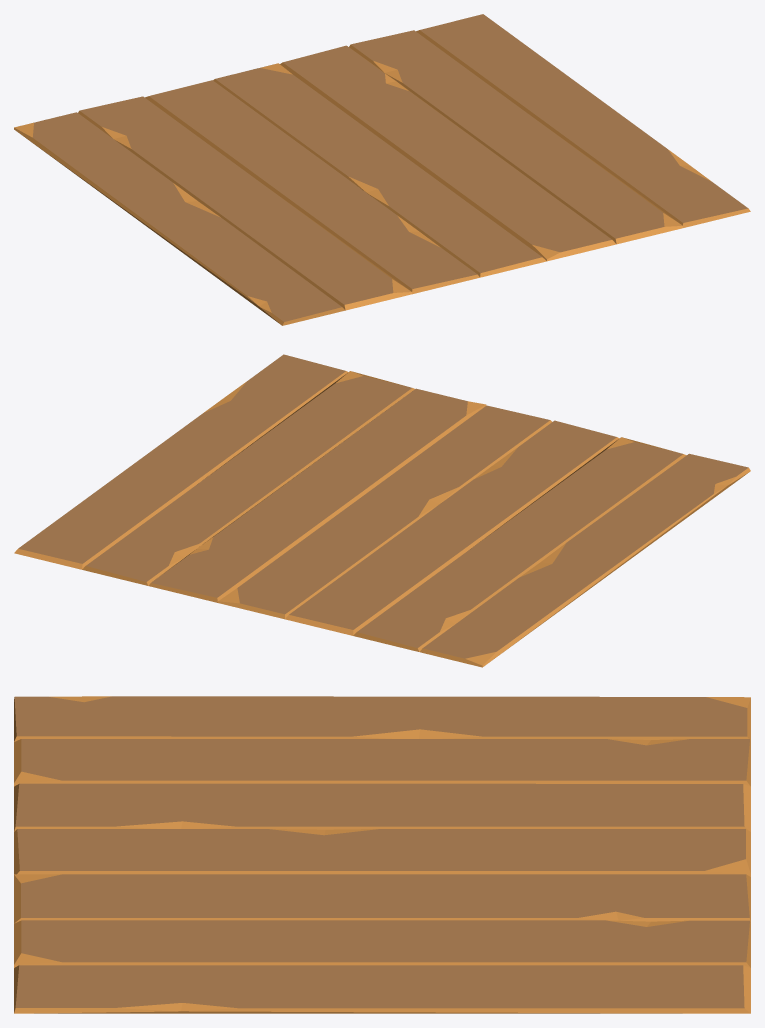
The model's file is Floor_Wood.FBX.
3 renders of one model, top to bottom at view 1: azimuth 30°, elevation 25°; view 2: azimuth 150°, elevation 25°; view 3: azimuth 270°, elevation 25°, orthographic. The views are drawn at different scales.
Parts seen in each view (by area): view 1: Floor_Wood; view 2: Floor_Wood; view 3: Floor_Wood.
Part boxes in pixels (x1,y1,x2,y2): Floor_Wood: [14, 14, 750, 325]; Floor_Wood: [14, 354, 750, 667]; Floor_Wood: [14, 696, 750, 1013].
Bounding box in the file's own units: 252 × 1.67 × 250.
